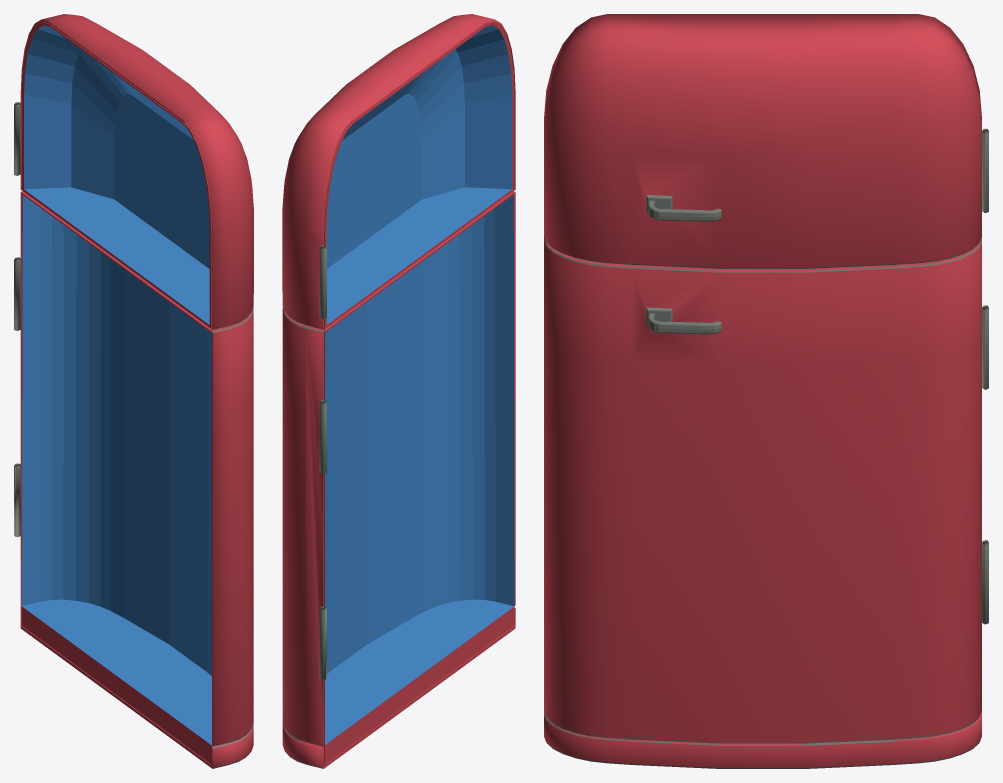
File: drzwi.fbx
3 renders of one model, left to right at view 1: azimuth 30°, elevation 25°; view 2: azimuth 150°, elevation 25°; view 3: azimuth 270°, elevation 25°, orthographic. The views are drawn at different scales.
Parts seen in each view (by area): view 1: drzwi_dol.001, drzwi_gora.001; view 2: drzwi_dol.001, drzwi_gora.001; view 3: drzwi_dol.001, drzwi_gora.001.
Part boxes in pixels (x1,y1,x2,y2): drzwi_dol.001: (14,191,253,768); drzwi_gora.001: (14,14,253,329); drzwi_dol.001: (282,191,515,768); drzwi_gora.001: (282,14,515,329); drzwi_dol.001: (544,237,988,768); drzwi_gora.001: (544,14,988,268).
Size of the model in its own units: 0.1426 by 0.508 by 0.9.
